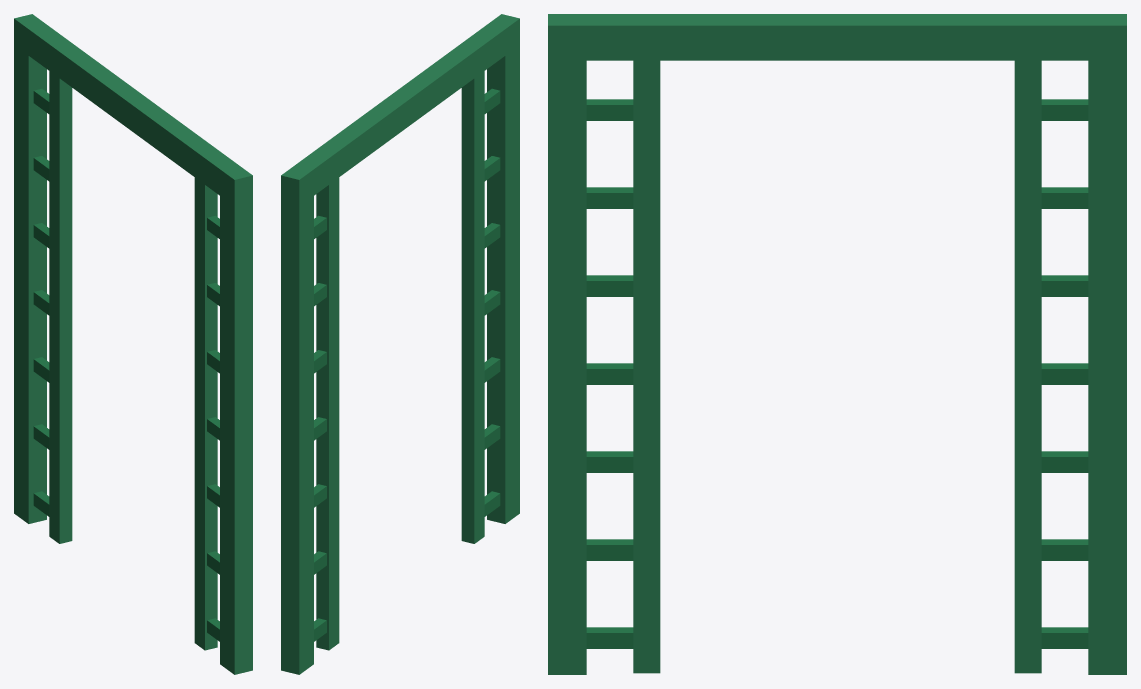
Rendered from Fence_1_B_1.fbx.
The picture shows the model from 3 angles, left to right: view 1: azimuth 30°, elevation 25°; view 2: azimuth 150°, elevation 25°; view 3: azimuth 270°, elevation 25°; orthographic projection. The views are drawn at different scales.
Parts seen in each view (by area): view 1: Fence_1_B_1; view 2: Fence_1_B_1; view 3: Fence_1_B_1.
Part boxes in pixels (<box>): Fence_1_B_1: <box>14,14,252,674</box>; Fence_1_B_1: <box>281,14,519,674</box>; Fence_1_B_1: <box>548,14,1126,674</box>.
Bounding box in the file's own units: 9.6 × 248 × 200.
